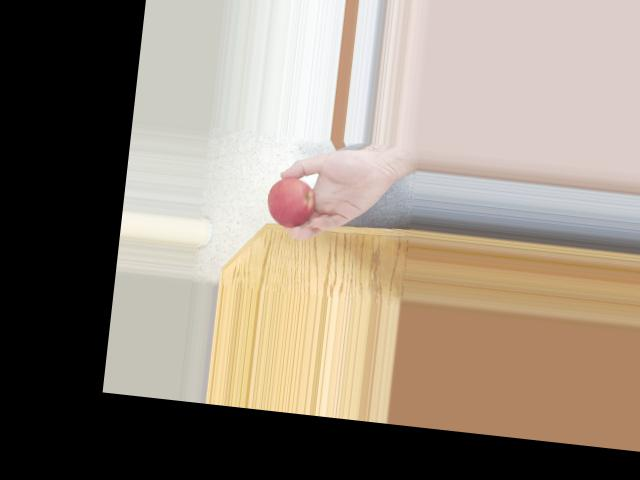apple: (265, 173, 321, 230)
